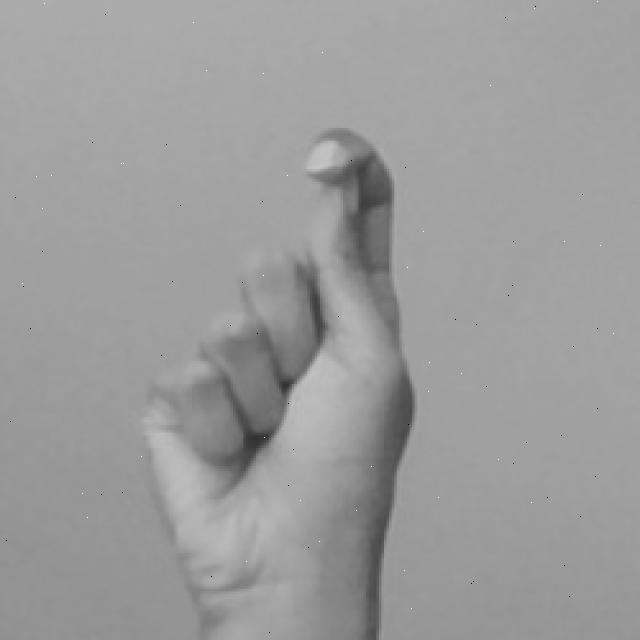T: (121, 124, 422, 640)
